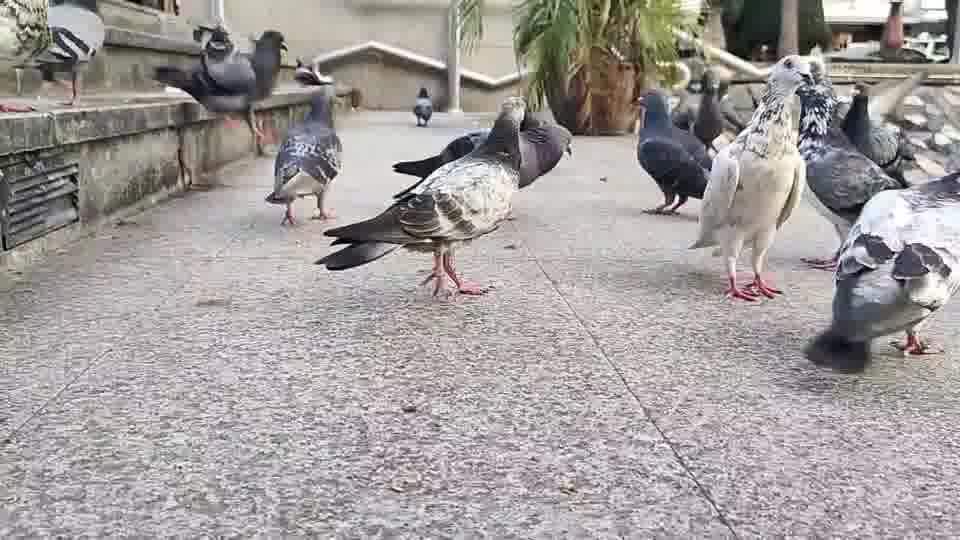Pigeon: (312, 105, 526, 298), (686, 53, 815, 304), (800, 168, 959, 368), (793, 75, 905, 269), (151, 24, 287, 154), (391, 95, 573, 191), (263, 91, 343, 225), (633, 87, 711, 215), (837, 74, 920, 187), (33, 24, 97, 106), (293, 56, 333, 87), (412, 86, 432, 126)
